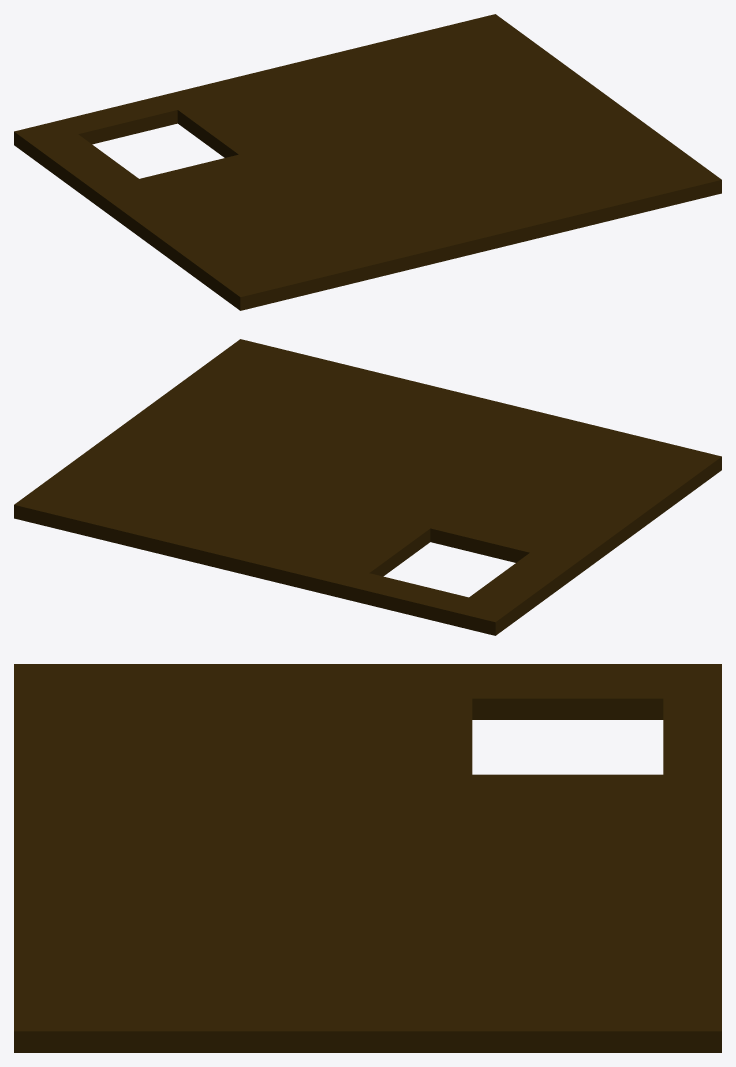
The model's file is smallFloor2.fbx.
3 renders of one model, top to bottom at view 1: azimuth 30°, elevation 25°; view 2: azimuth 150°, elevation 25°; view 3: azimuth 270°, elevation 25°, orthographic. The views are drawn at different scales.
Parts seen in each view (by area): view 1: smallFloor2; view 2: smallFloor2; view 3: smallFloor2.
Part boxes in pixels (x1=…): smallFloor2: x1=14, y1=14, x2=721, y2=310; smallFloor2: x1=14, y1=339, x2=721, y2=635; smallFloor2: x1=14, y1=664, x2=721, y2=1052.
Size of the model in its own units: 221 by 6 by 180.
